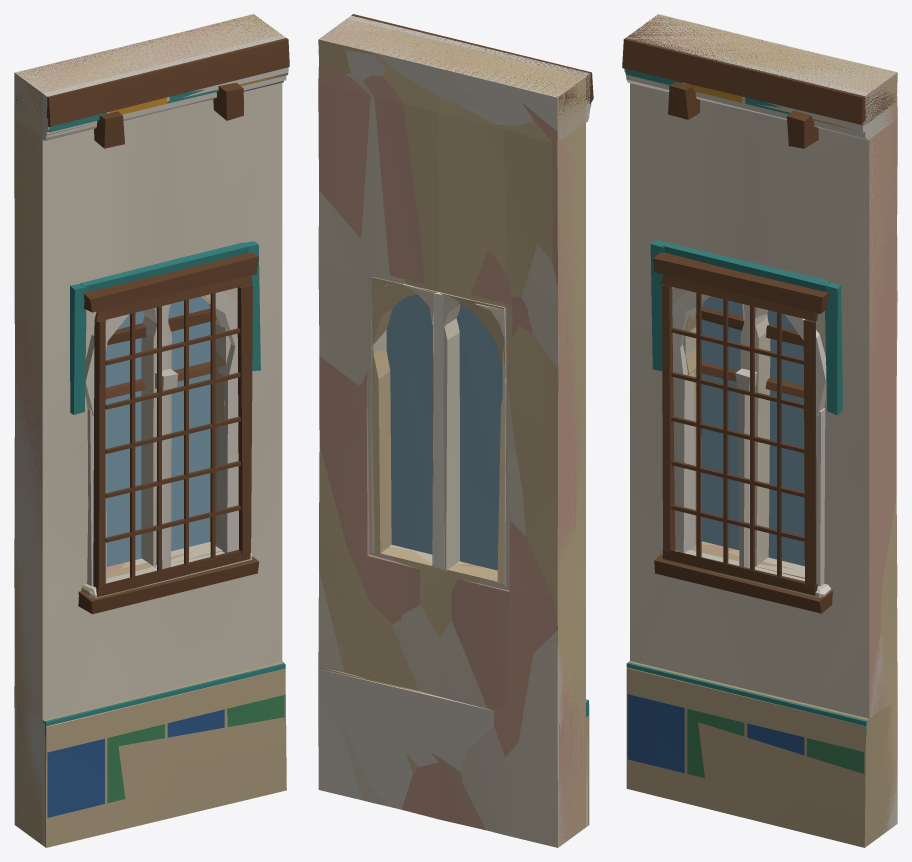
File: wall.window.glb
The picture shows the model from 3 angles, left to right: view 1: azimuth 30°, elevation 25°; view 2: azimuth 150°, elevation 25°; view 3: azimuth 330°, elevation 25°; orthographic projection.
Parts seen in each view (by area): view 1: wall.window.v2.mesh, wall.window.v1.mesh, wall.window.v0.mesh; view 2: wall.window.v0.mesh, wall.window.v1.mesh, wall.window.v2.mesh; view 3: wall.window.v2.mesh, wall.window.v1.mesh, wall.window.v0.mesh.
Part boxes in pixels (x1,y1,x2,y2): wall.window.v2.mesh: [14, 15, 289, 847]; wall.window.v1.mesh: [14, 17, 286, 846]; wall.window.v0.mesh: [14, 14, 288, 846]; wall.window.v0.mesh: [318, 15, 591, 846]; wall.window.v1.mesh: [318, 16, 590, 846]; wall.window.v2.mesh: [318, 14, 593, 847]; wall.window.v2.mesh: [622, 14, 897, 847]; wall.window.v1.mesh: [625, 14, 897, 832]; wall.window.v0.mesh: [624, 15, 897, 831].
Size of the model in its own units: 0.9999 by 3 by 0.304.
